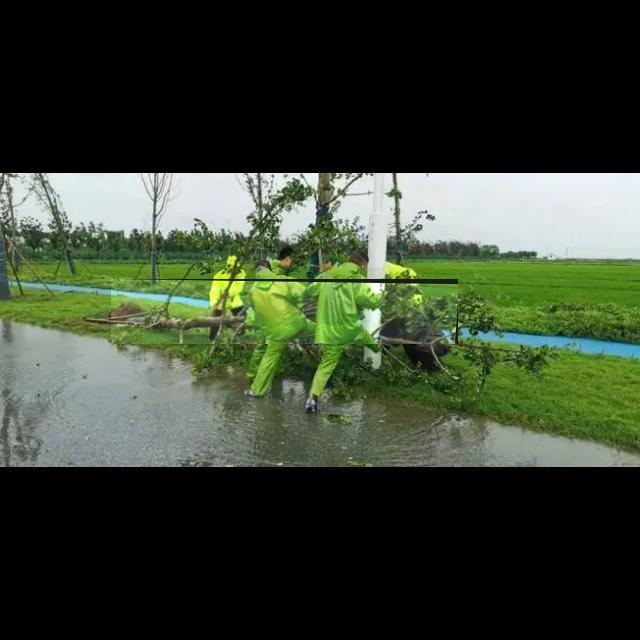fallen_tree: (111, 279, 459, 345)
